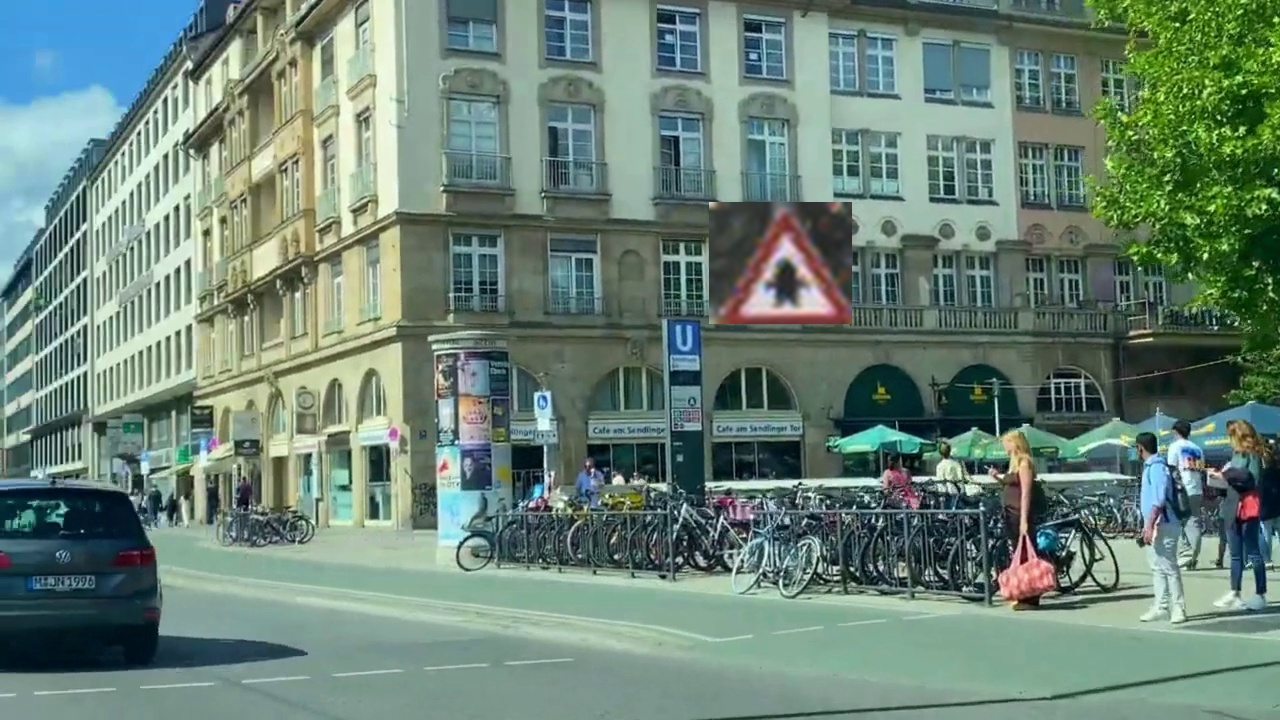Right-of-way: (709, 202, 852, 324)
